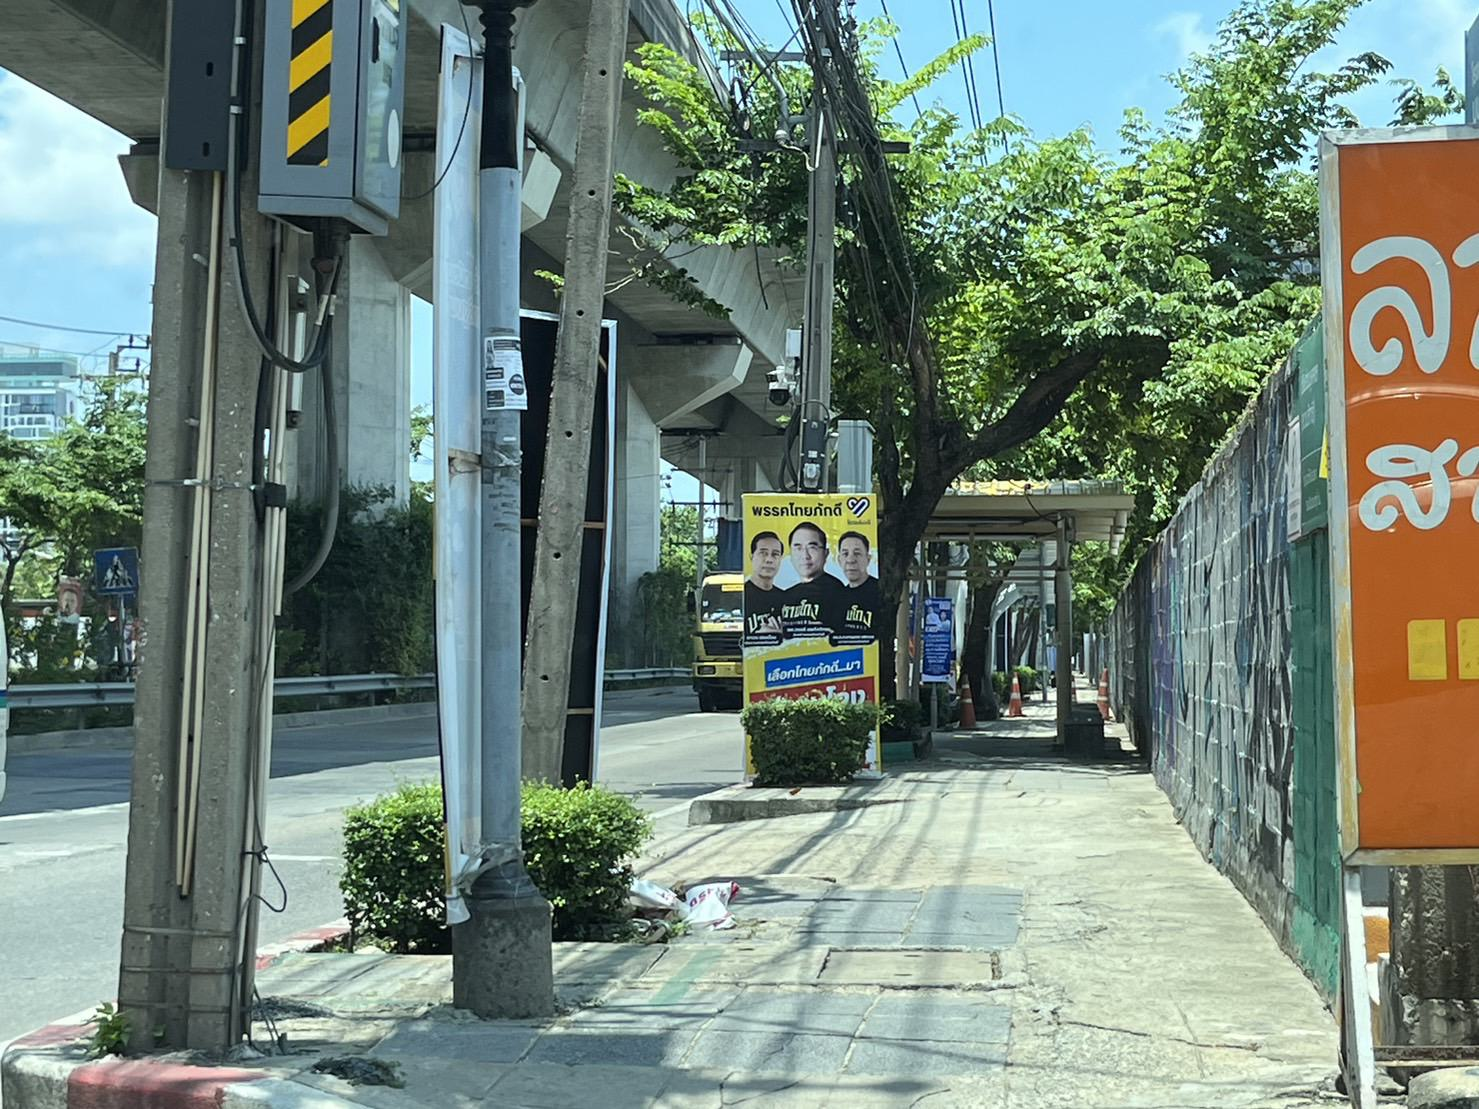Banner: (729, 489, 889, 779)
